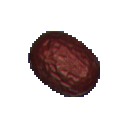gd: (24, 22, 118, 112)
